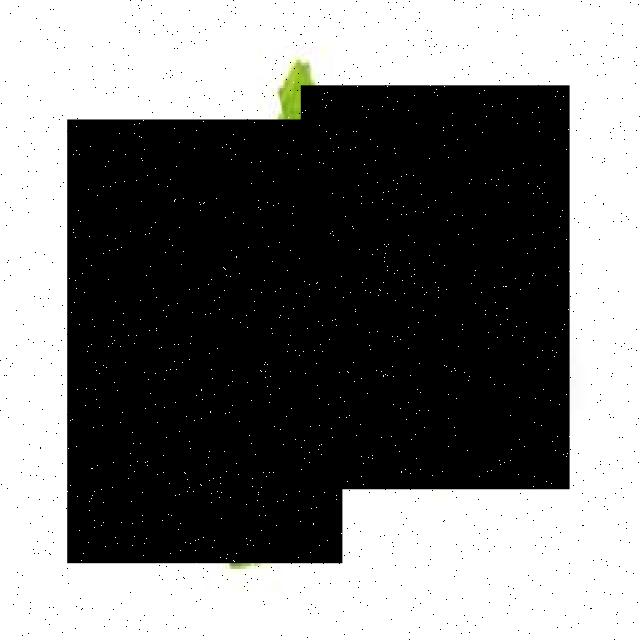Green_Mint: (69, 120, 344, 564), (302, 87, 571, 491)
